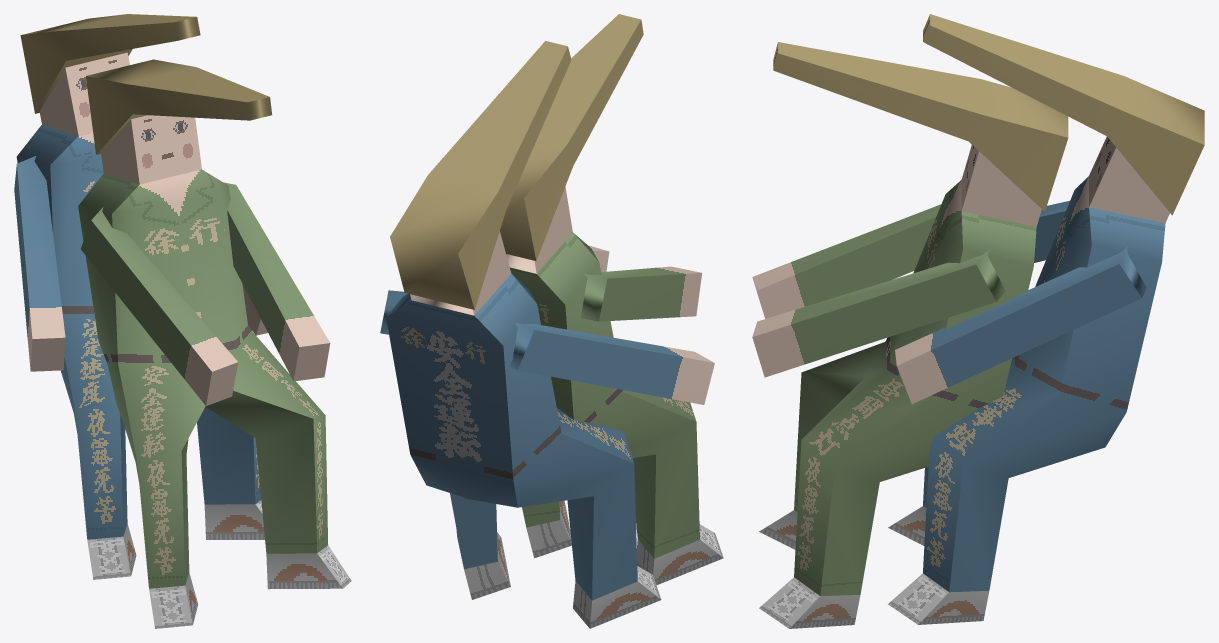
Rendered from 0242_Double_Punk.glb.
The picture shows the model from 3 angles, left to right: view 1: azimuth 30°, elevation 25°; view 2: azimuth 150°, elevation 25°; view 3: azimuth 270°, elevation 25°; orthographic projection. The views are drawn at different scales.
Visible parts, largest first — view 1: part_0; view 2: part_0; view 3: part_0.
Boxes of the visible parts, <box> form: part_0: <box>14,14,351,628</box>; part_0: <box>380,14,723,628</box>; part_0: <box>752,14,1204,628</box>.
Size of the model in its own units: 0.7746 by 1.61 by 1.15.
Materials: 1 (1 with a texture image).
